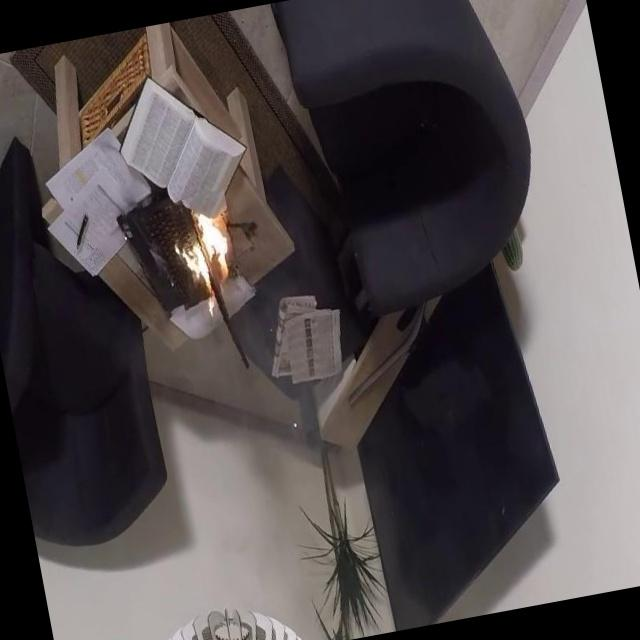fire: (160, 188, 266, 331)
